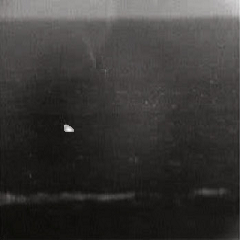Target: (63, 123, 75, 133)
